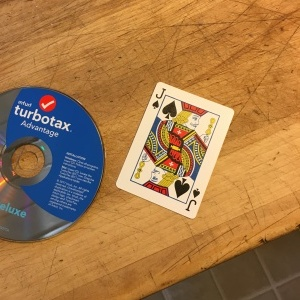card: (115, 81, 236, 219)
